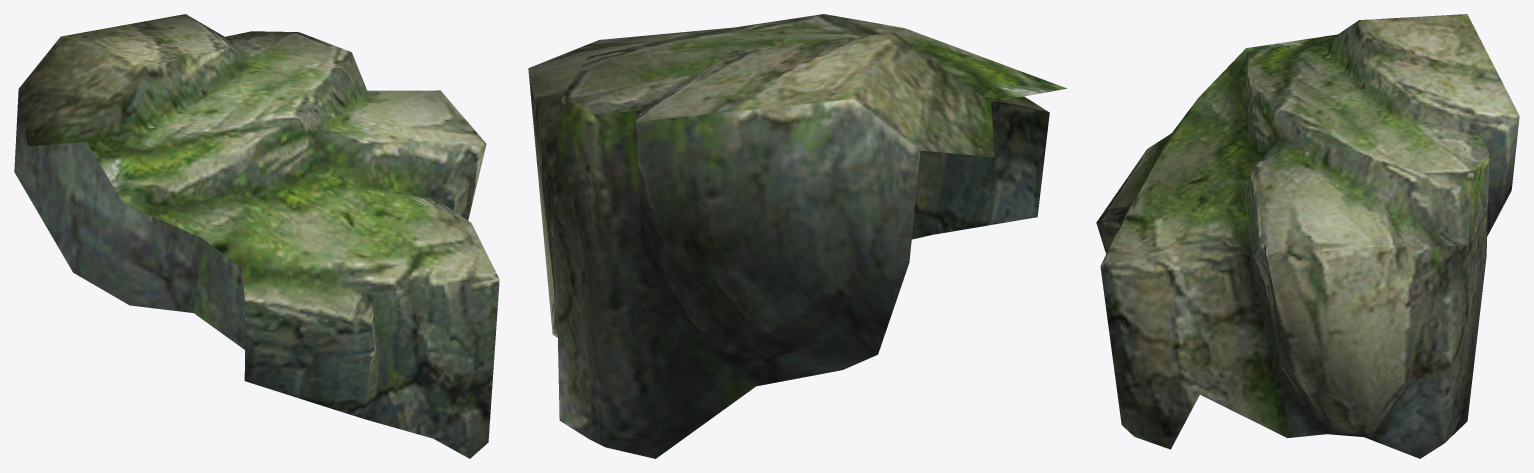
File: S_Rock_Green047_1060_1.fbx
3 renders of one model, left to right at view 1: azimuth 30°, elevation 25°; view 2: azimuth 150°, elevation 25°; view 3: azimuth 270°, elevation 25°, orthographic. The views are drawn at different scales.
Visible parts, largest first — view 1: S_Rock_Green047_1060_1; view 2: S_Rock_Green047_1060_1; view 3: S_Rock_Green047_1060_1.
Part boxes in pixels (<box>): S_Rock_Green047_1060_1: <box>14,14,499,458</box>; S_Rock_Green047_1060_1: <box>528,14,1066,458</box>; S_Rock_Green047_1060_1: <box>1096,14,1519,458</box>.
Size of the model in its own units: 798 by 700 by 792.
Materials: 1 (1 with a texture image).
